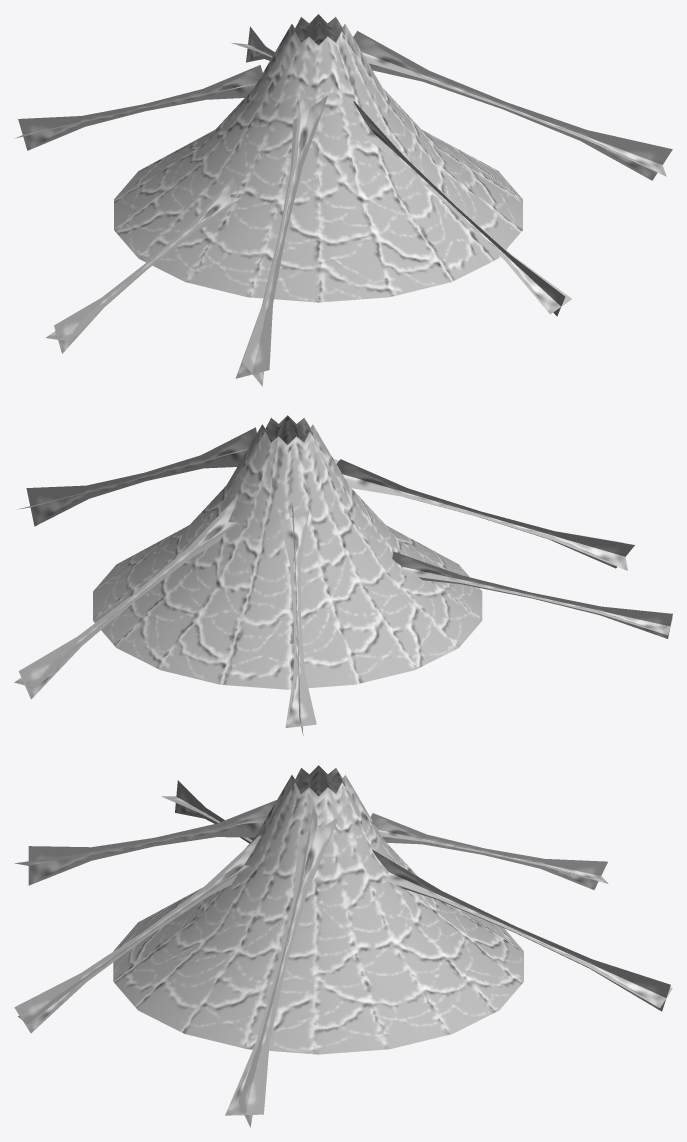
Rendered from webCocoon.FBX.
The picture shows the model from 3 angles, top to bottom: view 1: azimuth 30°, elevation 25°; view 2: azimuth 150°, elevation 25°; view 3: azimuth 270°, elevation 25°; orthographic projection. The views are drawn at different scales.
Visible parts, largest first — view 1: Cylinder01; view 2: Cylinder01; view 3: Cylinder01.
Boxes of the visible parts, <box> form: Cylinder01: <box>15,14,672,386</box>; Cylinder01: <box>14,415,672,735</box>; Cylinder01: <box>14,765,672,1127</box>.
Size of the model in its own units: 0.9507 by 0.2927 by 0.8305.
Materials: 1 (1 with a texture image).
